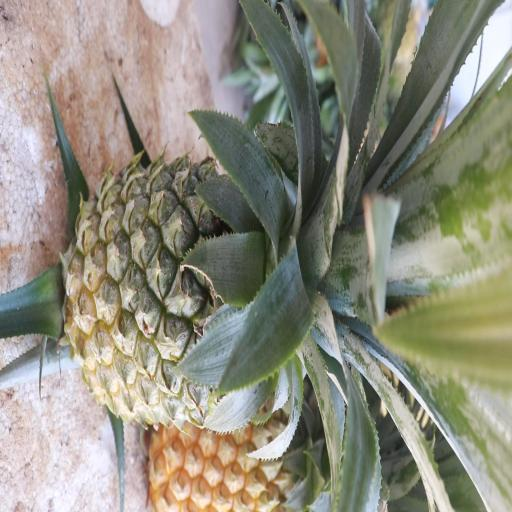------------------------------: (70, 166, 340, 426)
Pineapple - v8 v1: (149, 401, 343, 512)
